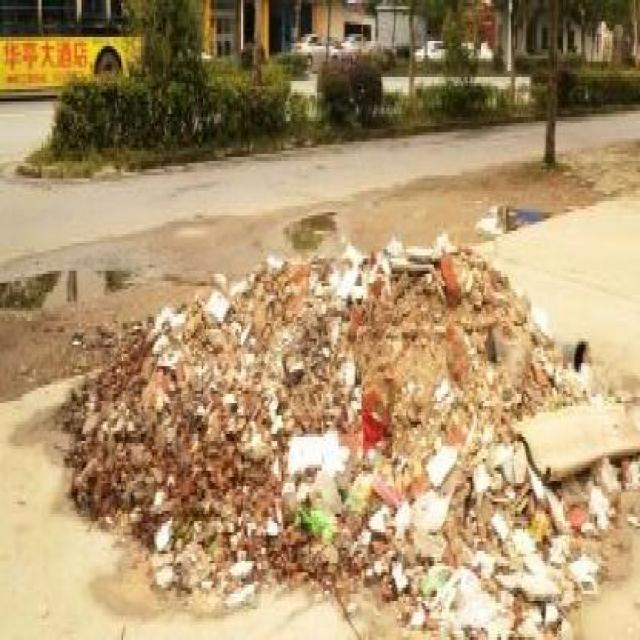garbage: (88, 317, 630, 576), (208, 262, 536, 320), (402, 575, 568, 636)
